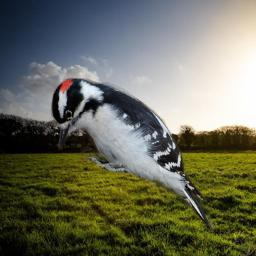Woodpecker: (49, 75, 217, 235)
